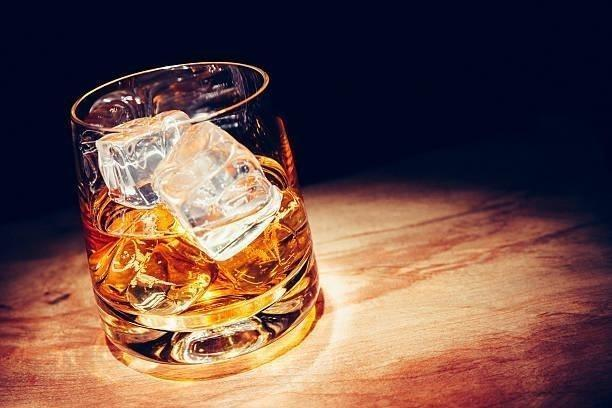glass-normal: (66, 57, 328, 376)
